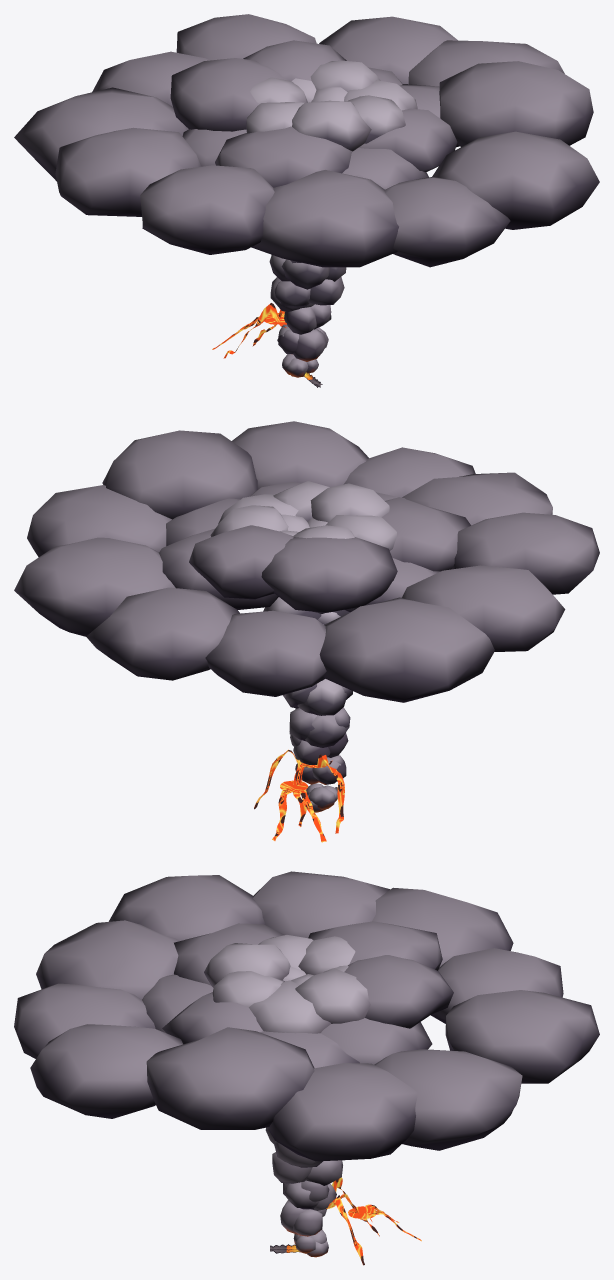
Rendered from wx_erupt.glb.
3 views of the same model, one above another, from view 1: azimuth 30°, elevation 25°; view 2: azimuth 150°, elevation 25°; view 3: azimuth 270°, elevation 25° (orthographic). The views are drawn at different scales.
Visible parts, largest first — view 1: wx_ash, wx_plume, wx_pool; view 2: wx_ash, wx_plume, wx_pool, wx_pool_sd; view 3: wx_ash, wx_plume, wx_pool.
Boxes of the visible parts, x1,y1,x2,y2 form: wx_ash: [14, 14, 599, 267]; wx_plume: [246, 60, 417, 377]; wx_pool: [223, 303, 286, 358]; wx_ash: [14, 421, 599, 702]; wx_plume: [210, 481, 396, 812]; wx_pool: [254, 749, 344, 833]; wx_pool_sd: [272, 780, 326, 842]; wx_ash: [14, 871, 599, 1161]; wx_plume: [204, 935, 370, 1257]; wx_pool: [326, 1177, 379, 1265].
Size of the model in its own units: 142 by 80.46 by 137.
5 materials, 4 textured.
